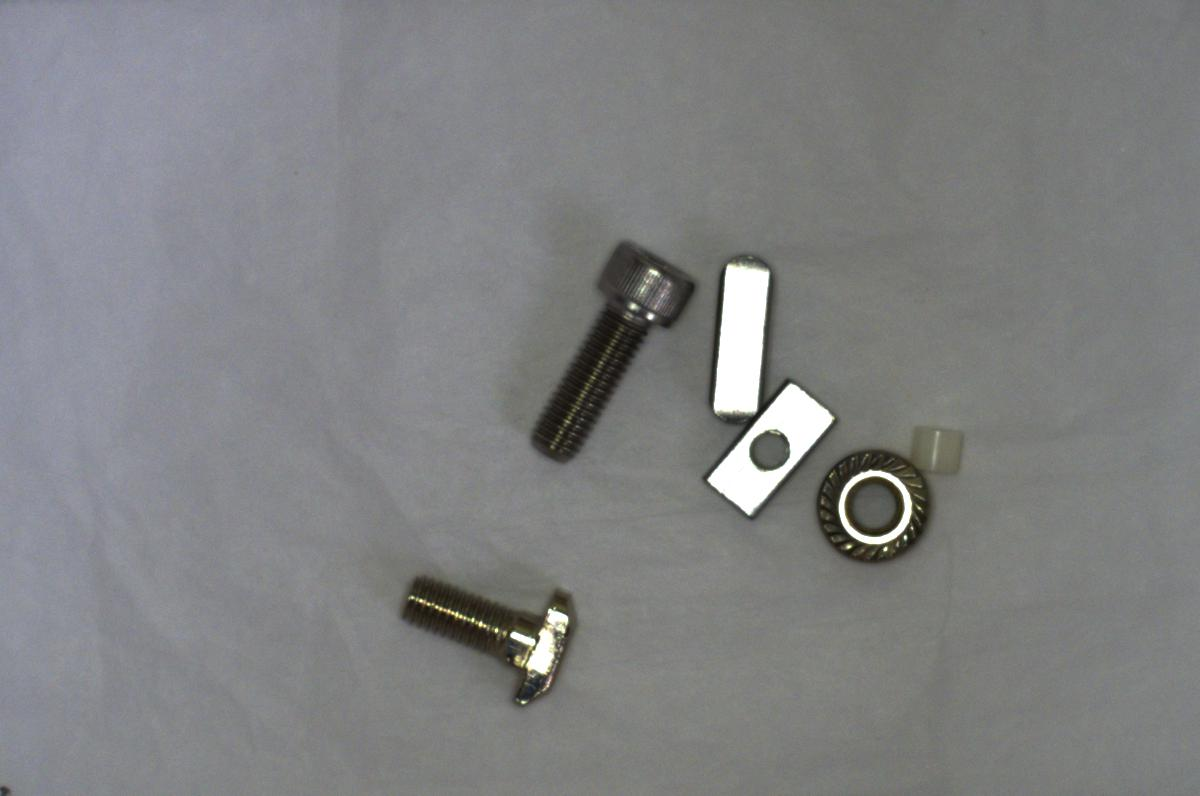Flange nut: (814, 443, 932, 562)
Hexagon screw: (520, 236, 702, 461)
Keybar: (706, 246, 771, 422)
Plastic cushion pillar: (905, 420, 967, 479)
Rectangular nut: (701, 379, 835, 523)
T-shaped screw: (387, 567, 591, 718)
